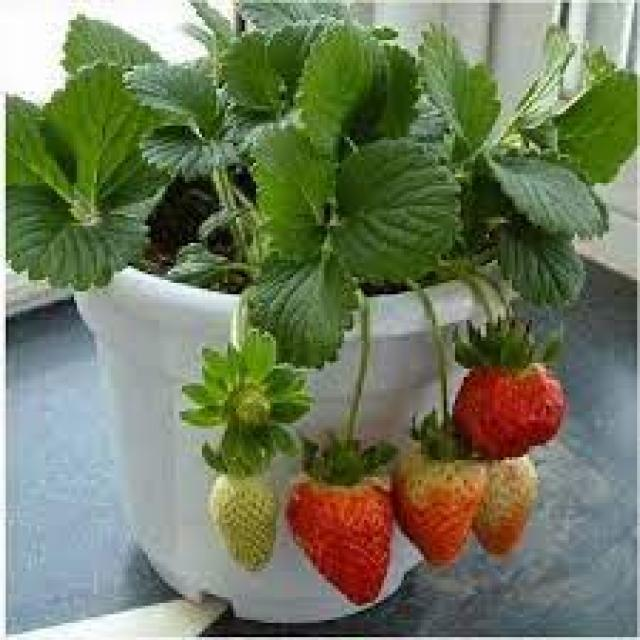Fruta sana: (288, 468, 395, 612), (455, 348, 565, 463), (394, 444, 476, 564), (468, 459, 544, 557)
